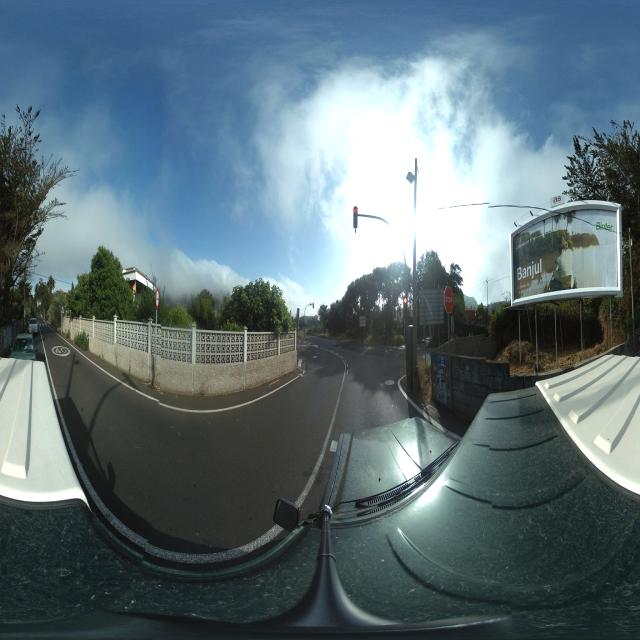car: (28, 316, 39, 336)
